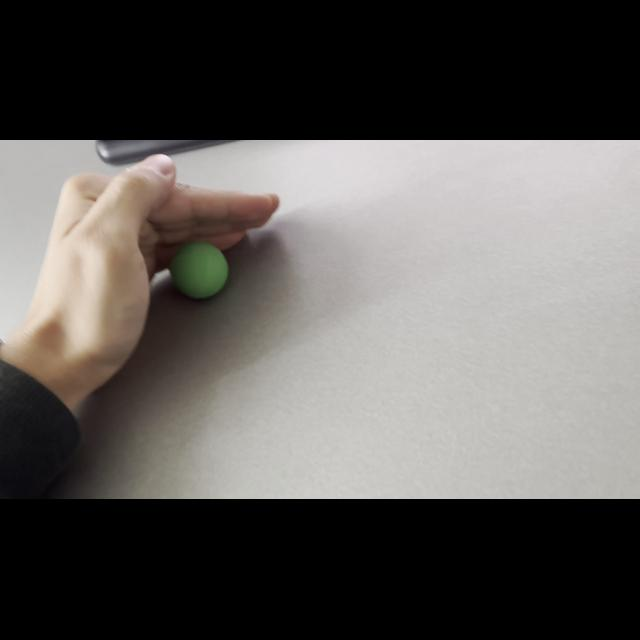objects: (167, 235, 235, 303)
